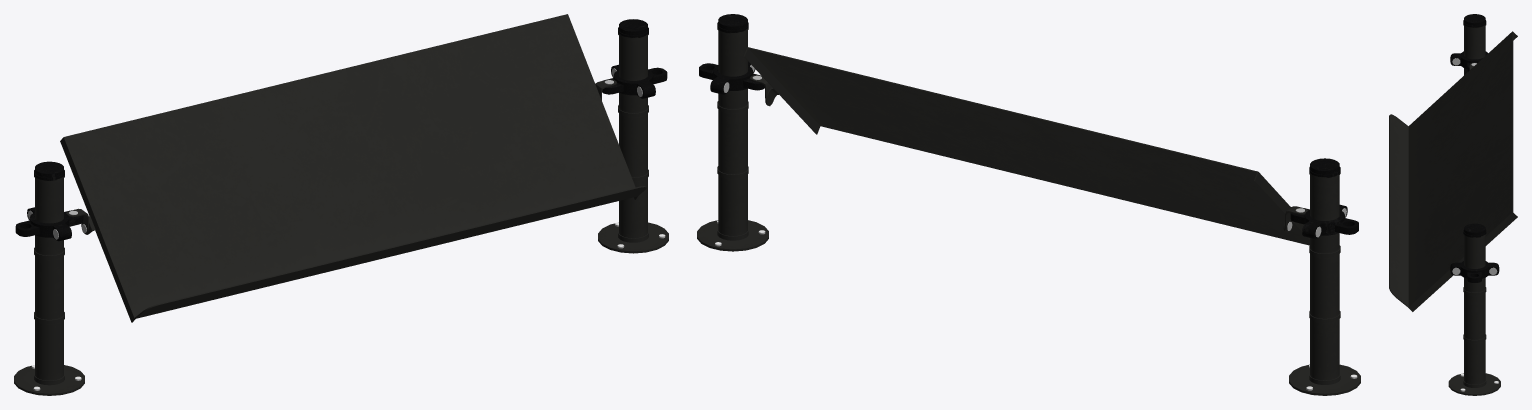
File: DJControlHolder01.FBX
3 renders of one model, left to right at view 1: azimuth 30°, elevation 25°; view 2: azimuth 150°, elevation 25°; view 3: azimuth 270°, elevation 25°, orthographic. The views are drawn at different scales.
Visible parts, largest first — view 1: DJControlHolder01; view 2: DJControlHolder01; view 3: DJControlHolder01.
Part boxes in pixels (bbox=[...]): DJControlHolder01: bbox=[14, 14, 668, 395]; DJControlHolder01: bbox=[697, 14, 1360, 395]; DJControlHolder01: bbox=[1389, 14, 1517, 395].
Size of the model in its own units: 142 by 45.06 by 33.25.
